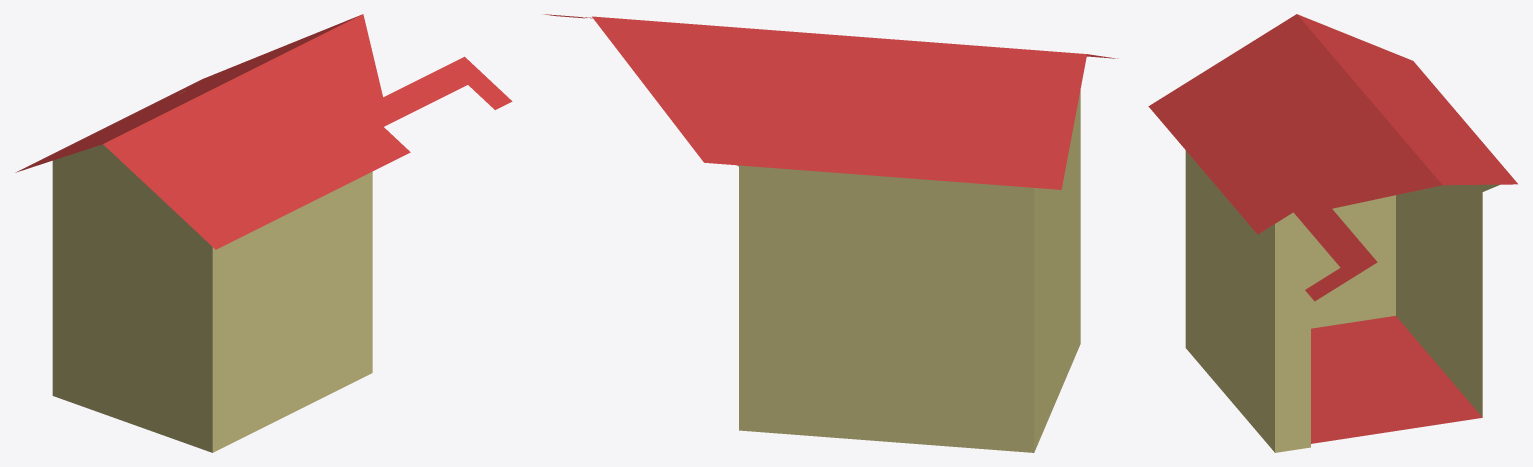
3 renders of one model, left to right at view 1: azimuth 30°, elevation 25°; view 2: azimuth 150°, elevation 25°; view 3: azimuth 270°, elevation 25°, orthographic. The views are drawn at different scales.
Bounding box in the file's own units: 14.4 × 9.57 × 8.67.
